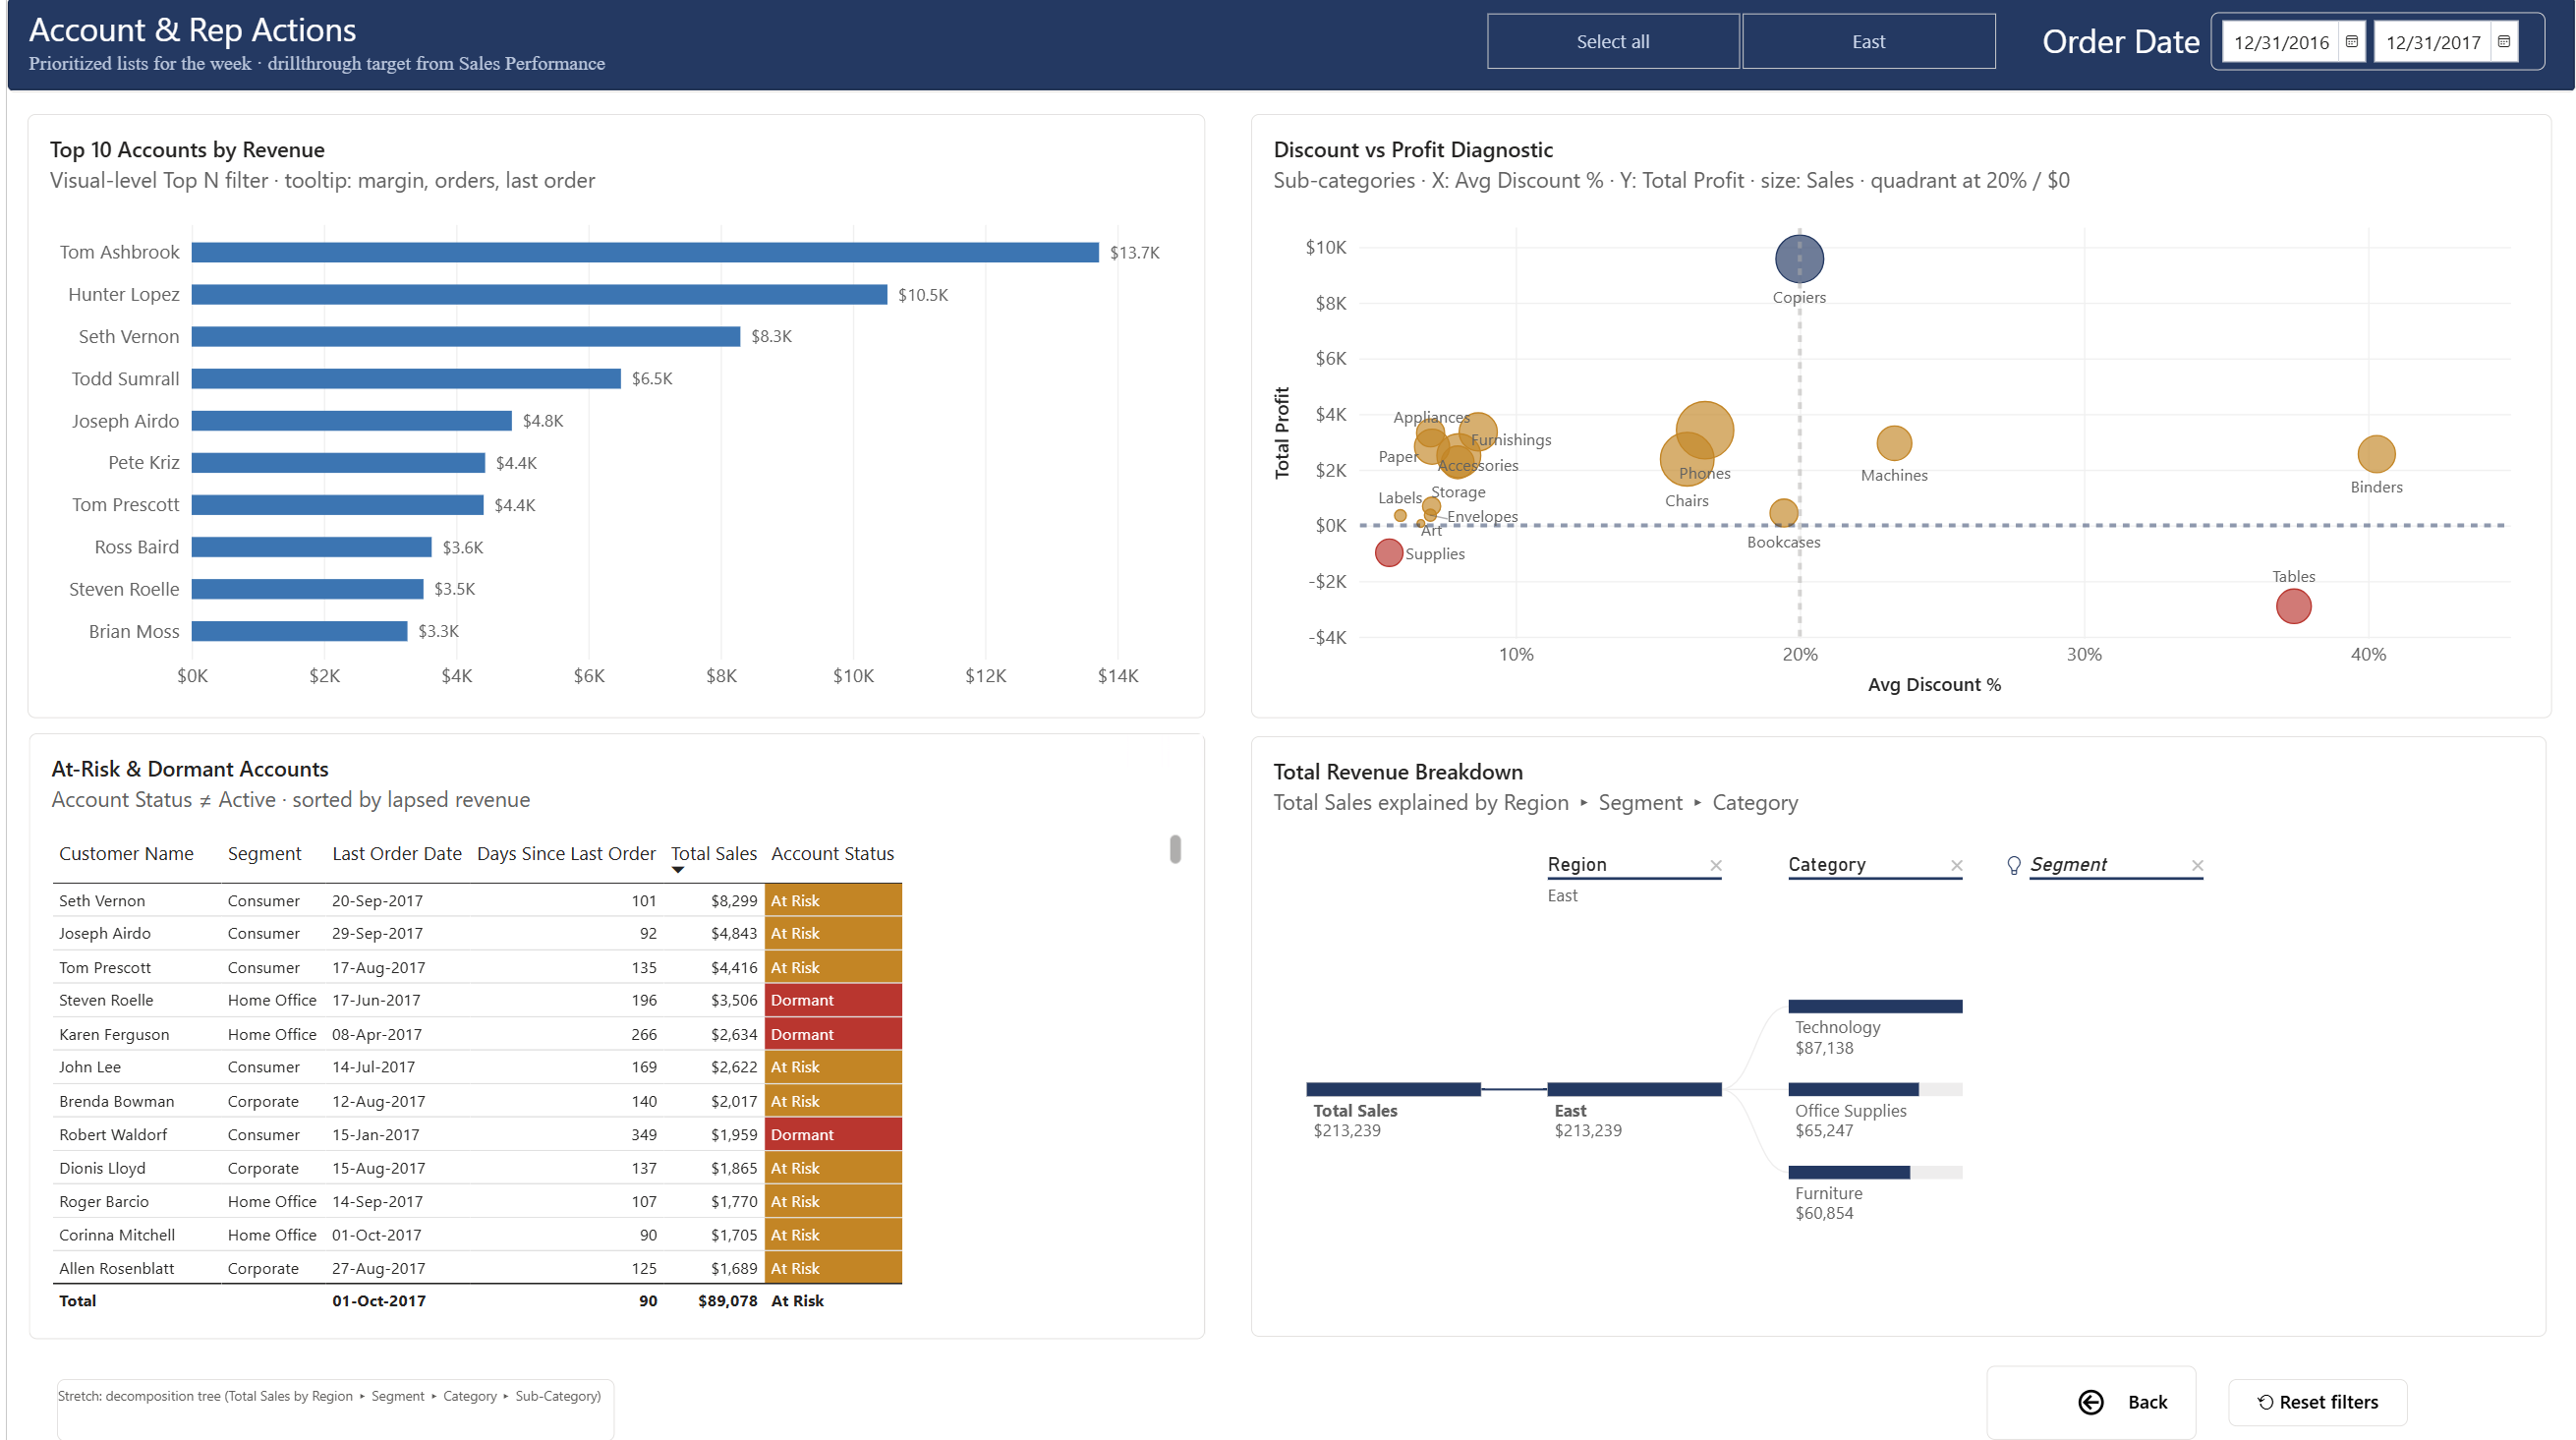

What the dashboard file says about the page in this screenshot:
{"tool":"powerbi","page":{"name":"Account & Rep Actions ","canvas":[1920,1080],"ordinal":2},"visuals":[{"type":"shape","box":[0,0,1920,71.7],"z":0},{"type":"textbox","box":[16,8,460,56],"z":1000},{"type":"slicer","title":"Order Date","fields":{"Values":["DimDate.Date"]},"box":[1647,12,250.2,43.3],"z":3000},{"type":"textbox","box":[1521,16,127.5,39.7],"z":4000},{"type":"actionButton","box":[1659.7,1033.8,133.8,35.1],"z":5000},{"type":"textbox","box":[37.7,1033.2,416.9,46.8],"z":6000},{"type":"clusteredBarChart","title":"Top 10 Accounts by Revenue","fields":{"Category":["DimCustomer.Customer Name"],"Y":["_Measures.Total Sales"]},"box":[14.9,88.1,880,451.5],"z":7000},{"type":"tableEx","title":"At-Risk & Dormant Accounts","fields":{"Values":["DimCustomer.Customer Name","DimCustomer.Segment","_Measures.Last Order Date","_Measures.Days Since Last Order","_Measures.Total Sales","_Measures.Account Status"]},"box":[16.3,550.5,878.6,452.9],"z":8000},{"type":"scatterChart","title":"Discount vs Profit Diagnostic","fields":{"Category":["DimProduct.Sub-Category"],"Size":["_Measures.Total Sales"],"X":["_Measures.Avg Discount %"],"Y":["_Measures.Total Profit"]},"box":[930.2,88.1,972.2,451.5],"z":9000},{"type":"actionButton","title":"Back","box":[1479.7,1023.2,156.5,55.1],"z":9001},{"type":"decompositionTreeVisual","title":"Total Revenue Breakdown","fields":{"Analyze":["_Measures.Total Sales"],"ExplainBy":["DimGeography.Region","DimProduct.Category","DimCustomer.Segment","DimProduct.Sub-Category"]},"box":[930.2,553.2,968.1,448.8],"z":9002},{"type":"slicer","fields":{"Values":["DimGeography.Region"]},"box":[1085.5,10.8,420,45],"z":9003}]}

Visuals, with their boxes in screenshot pixels (x1, y1, x2, y2), scaled from the page's 1920x1080 canvas onto the 2576x1440 screenshot:
shape: pyautogui.locateOnScreen(0, 0, 2575, 95)
textbox: pyautogui.locateOnScreen(22, 11, 639, 86)
"Order Date" slicer: pyautogui.locateOnScreen(2209, 16, 2546, 74)
textbox: pyautogui.locateOnScreen(2040, 22, 2211, 75)
actionButton: pyautogui.locateOnScreen(2227, 1378, 2406, 1425)
textbox: pyautogui.locateOnScreen(50, 1378, 610, 1439)
"Top 10 Accounts by Revenue" clusteredBarChart: pyautogui.locateOnScreen(20, 118, 1201, 720)
"At-Risk & Dormant Accounts" tableEx: pyautogui.locateOnScreen(22, 734, 1201, 1338)
"Discount vs Profit Diagnostic" scatterChart: pyautogui.locateOnScreen(1248, 118, 2552, 720)
"Back" actionButton: pyautogui.locateOnScreen(1985, 1364, 2196, 1438)
"Total Revenue Breakdown" decompositionTreeVisual: pyautogui.locateOnScreen(1248, 737, 2547, 1336)
slicer - DimGeography.Region: pyautogui.locateOnScreen(1457, 15, 2020, 75)
